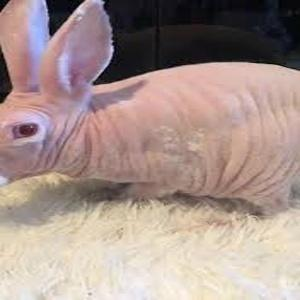rabbit: (0, 0, 299, 208)
